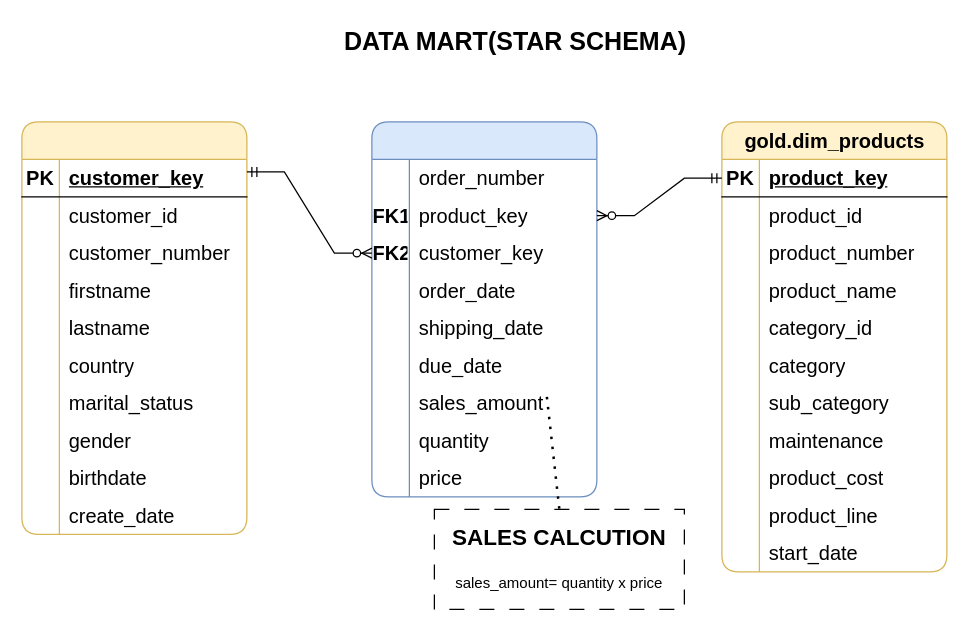
Image size: 969x634. Some labels were removed from this diagram. The shapes that lost their labels are listed below. From the top down, each one's box as (x1, y1, x2, y2) in pixels, then its label:
(21, 121, 247, 534): gold.dim_customers
(371, 121, 597, 497): gold.fact_sales
